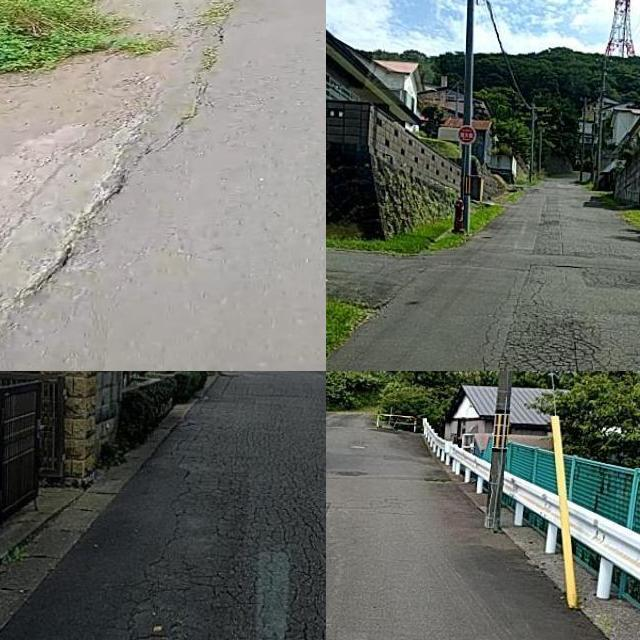Pinggir: (0, 0, 279, 150)
Retak Buaya: (230, 466, 326, 640), (497, 317, 601, 371)
